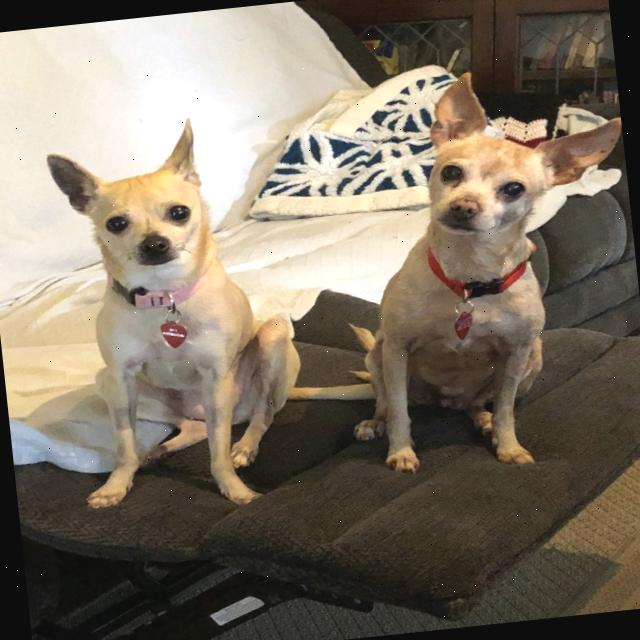chihuahua_dog: (384, 48, 634, 266), (34, 110, 236, 289)
